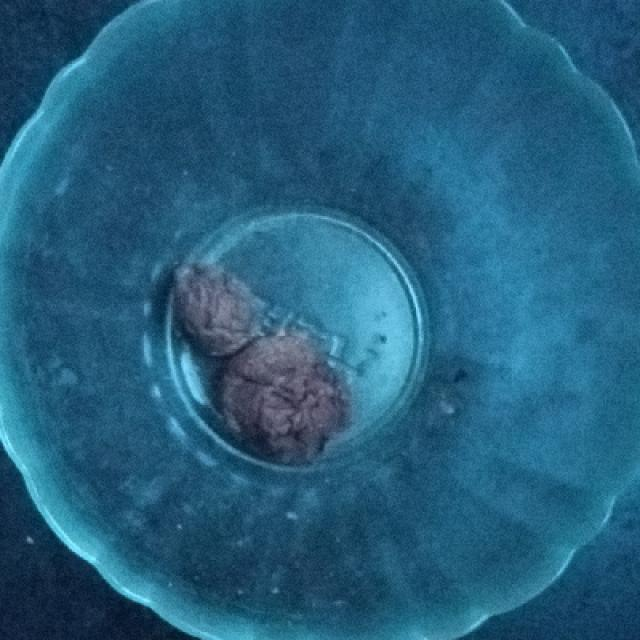Lentinus edodes: (217, 336, 351, 456)
